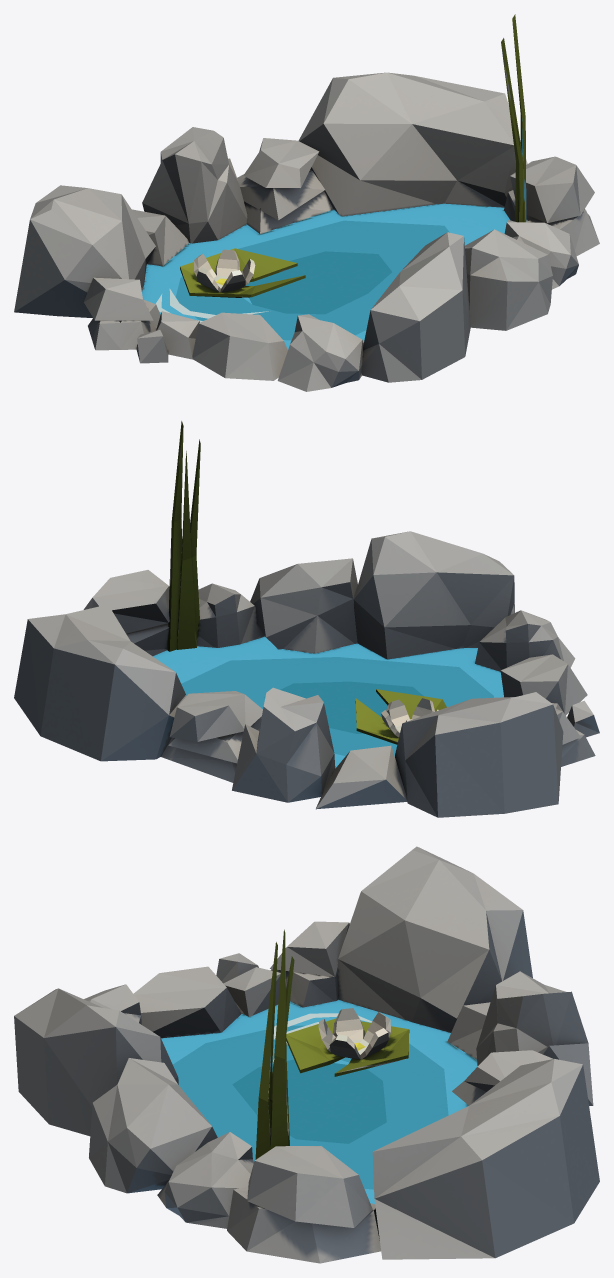
3 views of the same model, one above another, from view 1: azimuth 30°, elevation 25°; view 2: azimuth 150°, elevation 25°; view 3: azimuth 270°, elevation 25° (orthographic). The views are drawn at different scales.
Parts seen in each view (by area): view 1: Mesh_15.001; view 2: Mesh_15.001; view 3: Mesh_15.001.
Boxes of the visible parts, left/top/right/bottom form: Mesh_15.001: left=14, top=14, right=599, bottom=391; Mesh_15.001: left=14, top=421, right=599, bottom=817; Mesh_15.001: left=14, top=846, right=599, bottom=1263.
Size of the model in its own units: 2.19 by 0.929 by 1.75.
1 material, 1 textured.
